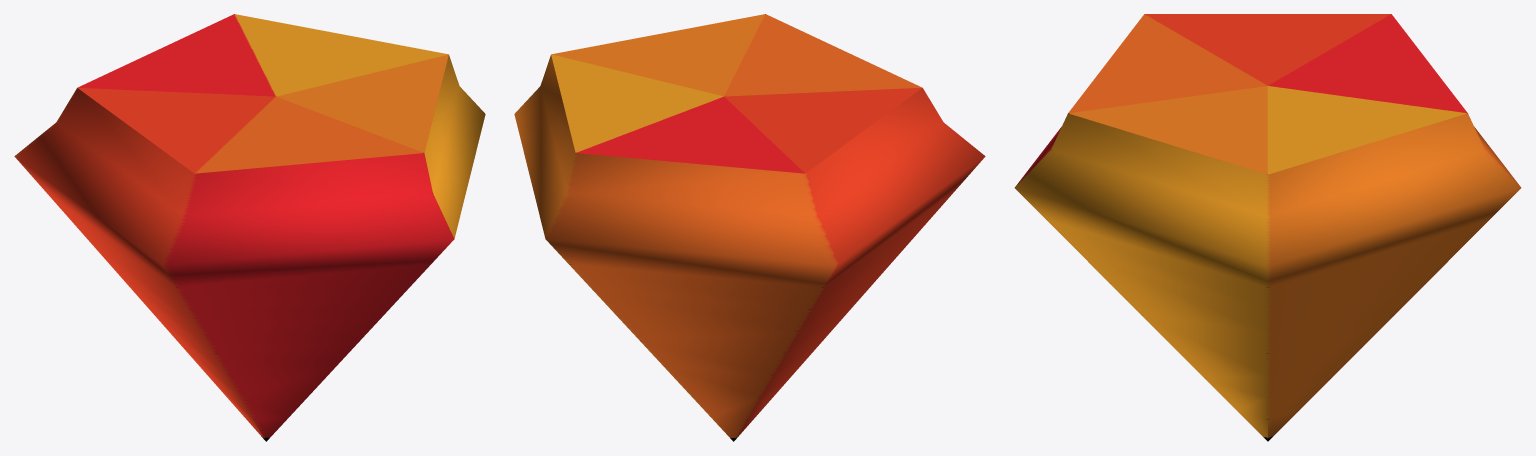
The model's file is blender_gem01.obj.
3 renders of one model, left to right at view 1: azimuth 30°, elevation 25°; view 2: azimuth 150°, elevation 25°; view 3: azimuth 270°, elevation 25°, orthographic. The views are drawn at different scales.
Parts seen in each view (by area): view 1: maya_gem01; view 2: maya_gem01; view 3: maya_gem01.
Boxes of the visible parts, <box> form: maya_gem01: <box>14,14,485,441</box>; maya_gem01: <box>514,14,985,441</box>; maya_gem01: <box>1014,14,1521,441</box>.
Bounding box in the file's own units: 6.16 × 5.08 × 6.47.
